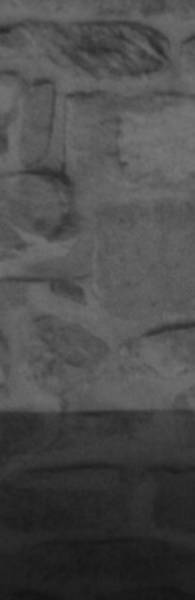water: (0, 411, 195, 600)
